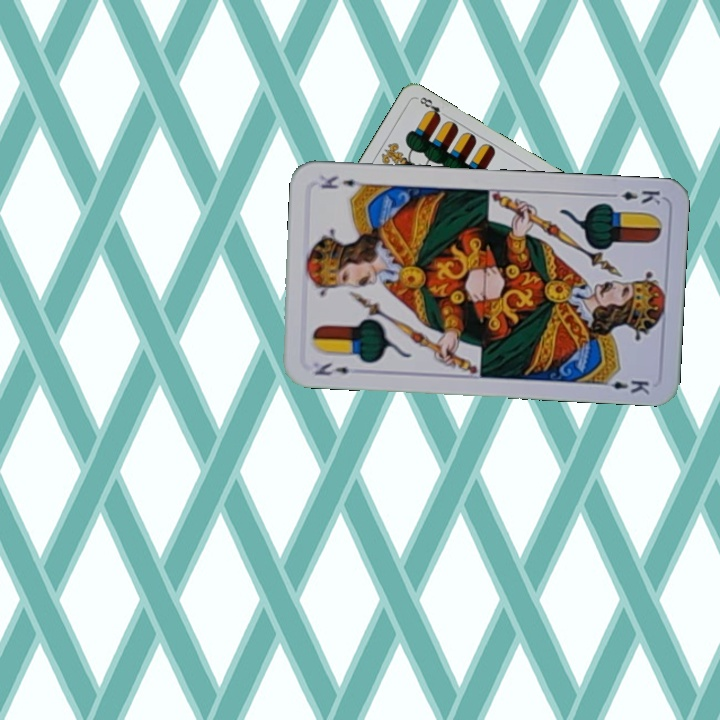EK: (604, 186, 663, 207), (310, 358, 352, 379)
